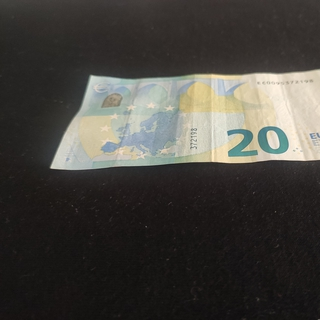20EUROBack: (49, 68, 320, 172)
